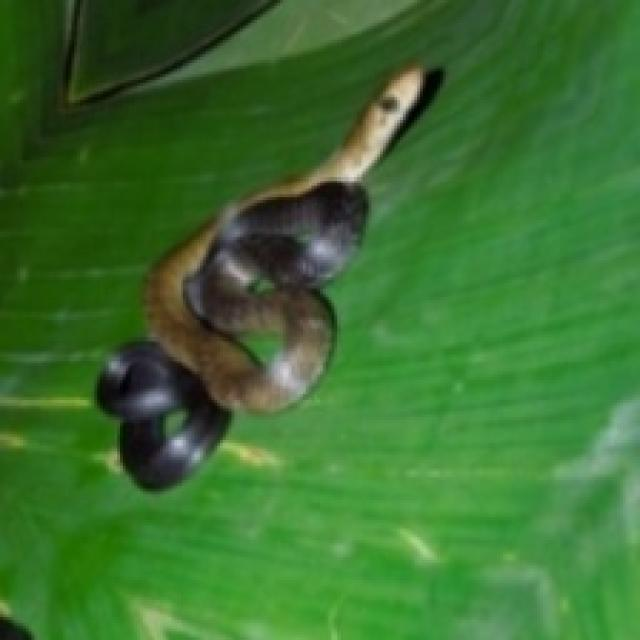reddish rat snake: (97, 63, 440, 486)
